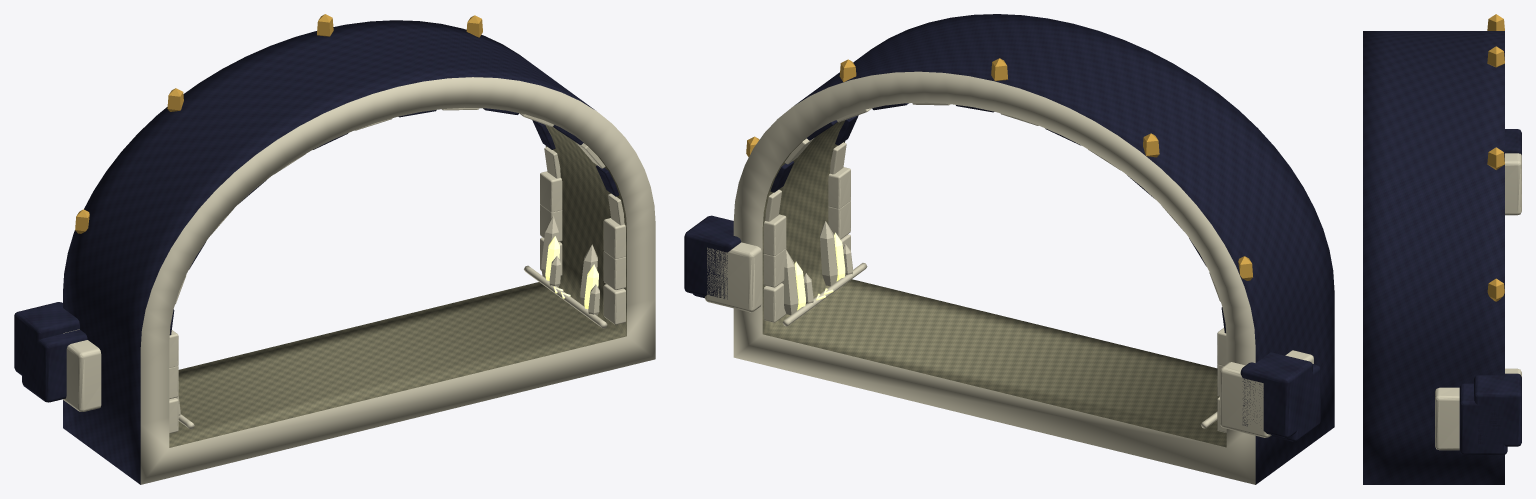
The model's file is portal_exit.glb.
3 renders of one model, left to right at view 1: azimuth 30°, elevation 25°; view 2: azimuth 150°, elevation 25°; view 3: azimuth 270°, elevation 25°, orthographic. The views are drawn at different scales.
Parts seen in each view (by area): view 1: TunnelGeometry; view 2: TunnelGeometry; view 3: TunnelGeometry.
Part boxes in pixels (box(x1,y1,x2,y2)): TunnelGeometry: box(14, 14, 655, 484); TunnelGeometry: box(684, 14, 1334, 484); TunnelGeometry: box(1363, 14, 1521, 484).
Size of the model in its own units: 17.75 by 10.07 by 4.48.
Materials: 5 (2 with a texture image).
